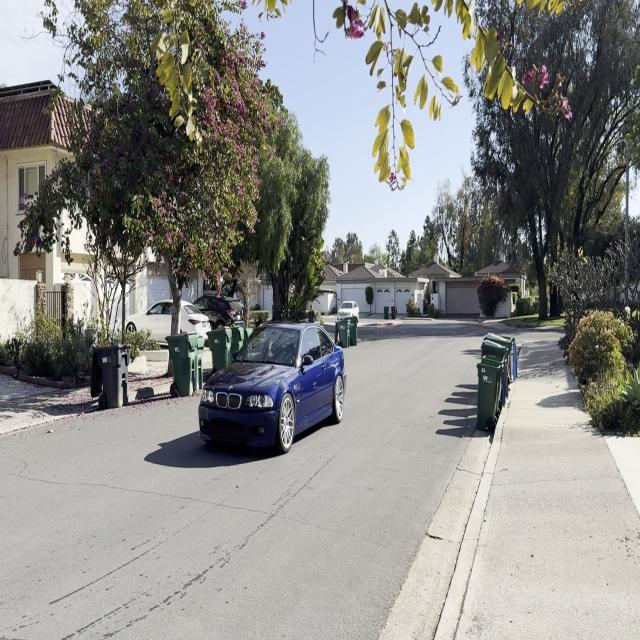Carbeetle: (187, 314, 357, 464)
